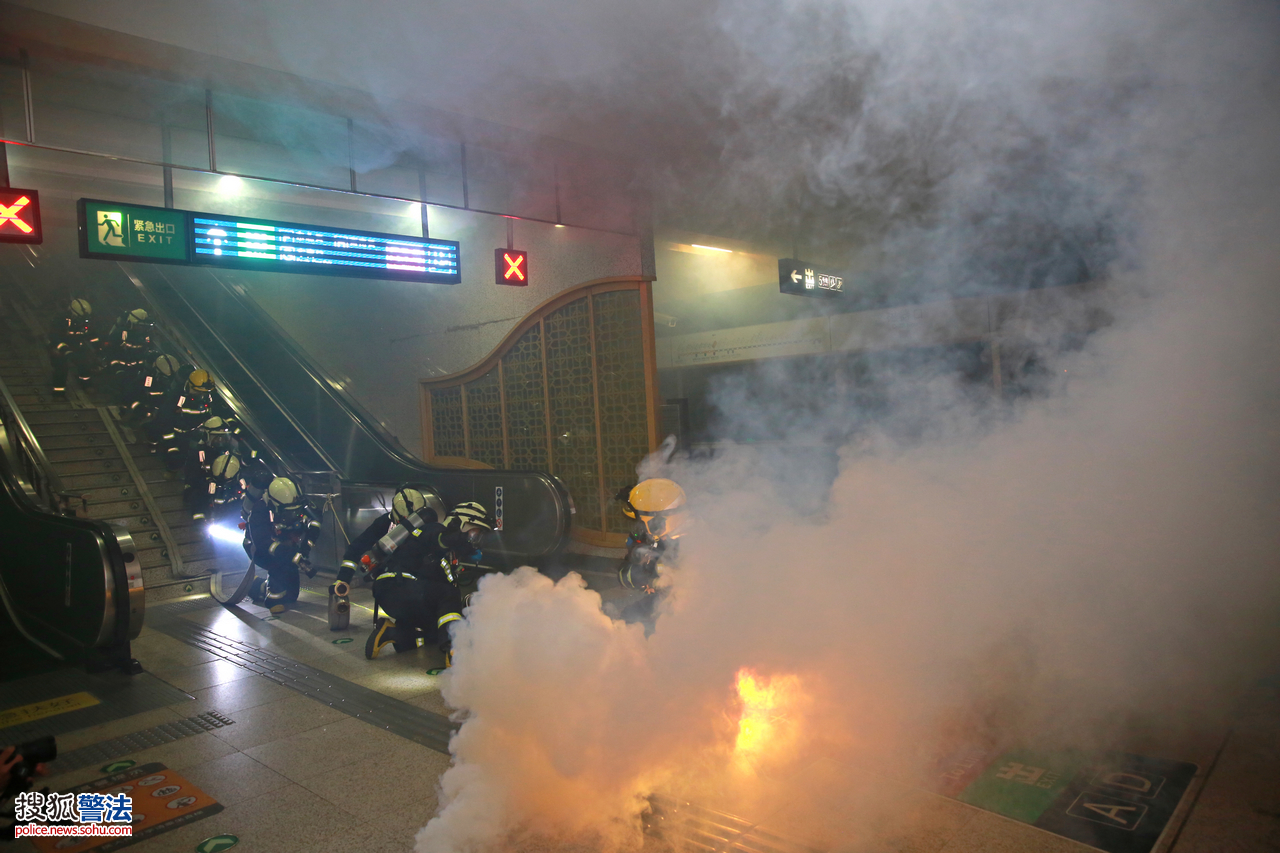smoke: (903, 26, 1280, 407), (461, 569, 646, 849), (705, 456, 937, 667), (985, 616, 1279, 760), (700, 16, 897, 226), (230, 14, 438, 185), (765, 697, 965, 853), (958, 208, 1136, 352), (704, 362, 878, 437)
